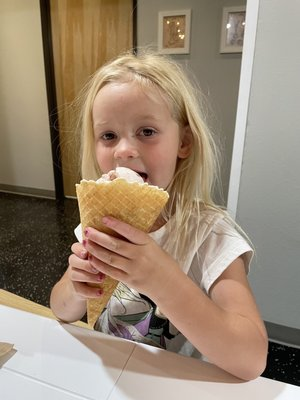soup: (74, 168, 170, 246)
